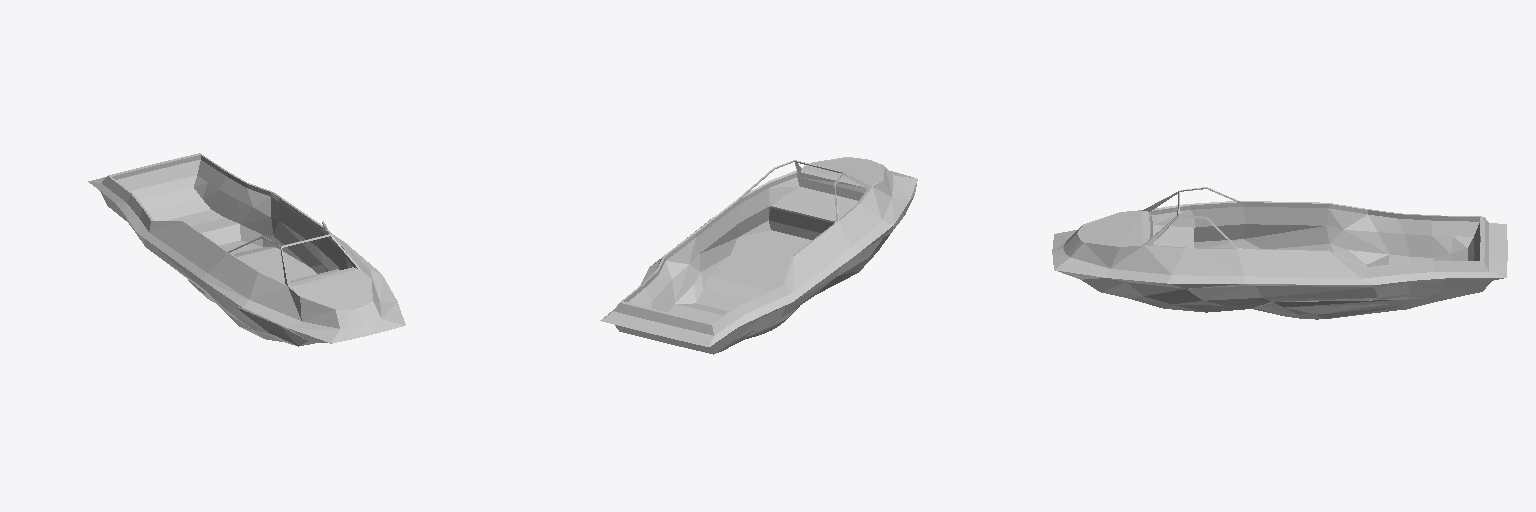
Rendered from boat01.obj.
3 renders of one model, left to right at view 1: azimuth 30°, elevation 25°; view 2: azimuth 150°, elevation 25°; view 3: azimuth 270°, elevation 25°, orthographic.
Parts seen in each view (by area): view 1: Boat_Hull_Cube.002; view 2: Boat_Hull_Cube.002; view 3: Boat_Hull_Cube.002.
Boxes of the visible parts, x1=… form: Boat_Hull_Cube.002: x1=88, y1=153, x2=405, y2=346; Boat_Hull_Cube.002: x1=600, y1=157, x2=917, y2=354; Boat_Hull_Cube.002: x1=1052, y1=187, x2=1507, y2=319.
Bounding box in the file's own units: 6.88 × 4.87 × 18.6.